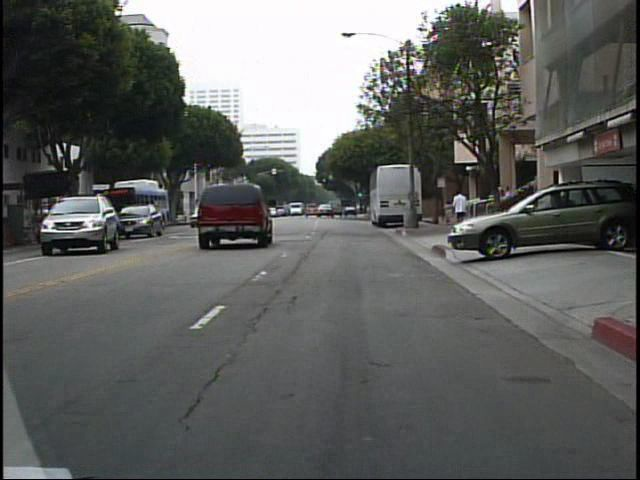person: (449, 188, 471, 237)
